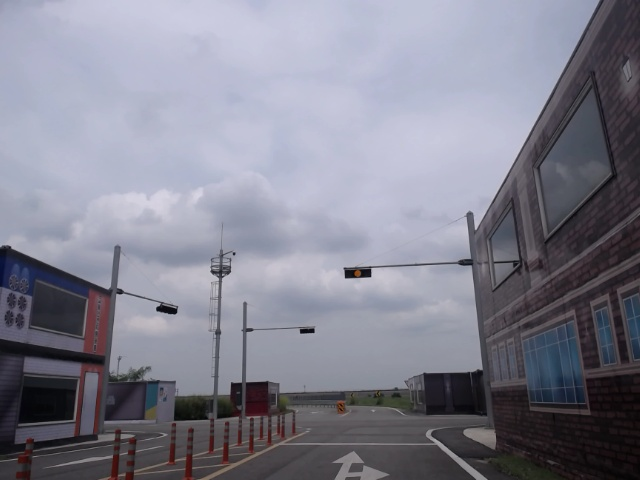orange_3: (344, 268, 372, 278)
